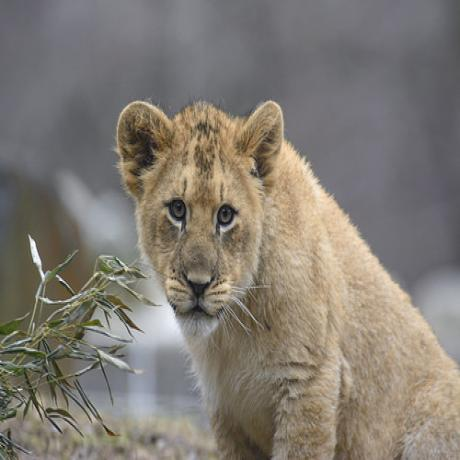Lion: (114, 93, 460, 460)
